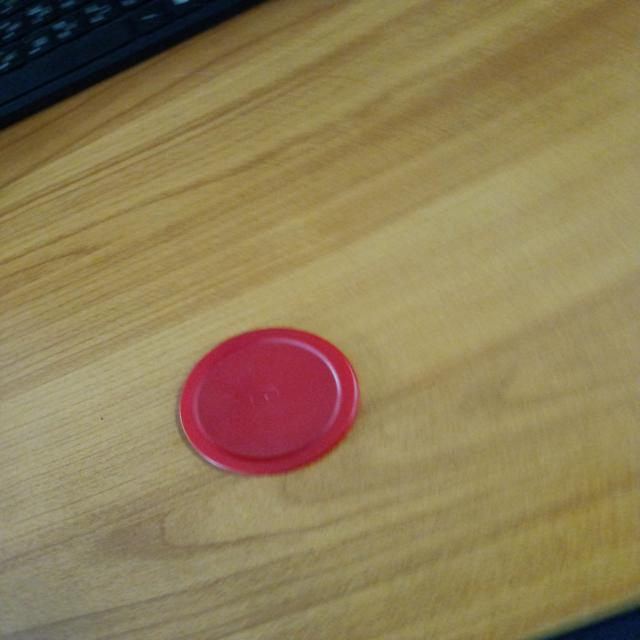chip: (178, 326, 364, 476)
